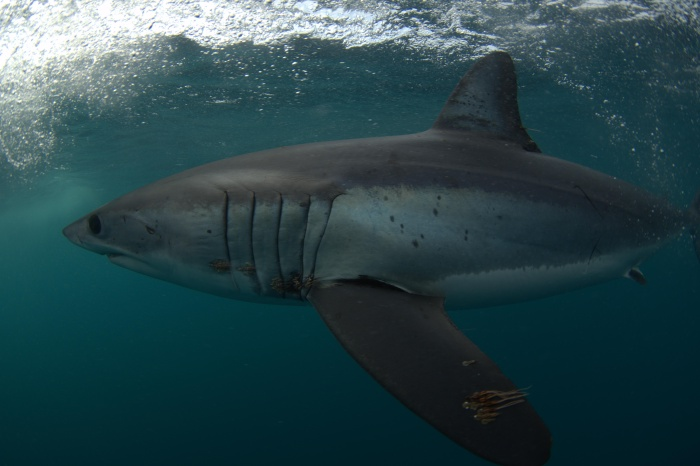Mako: (58, 53, 700, 464)
